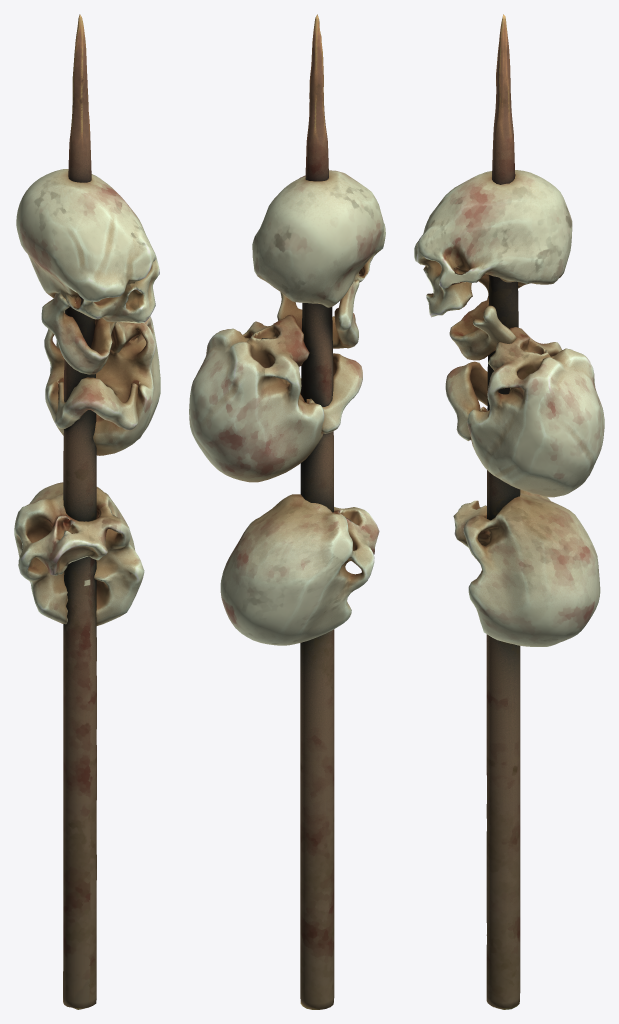
File: stick1.glb
3 views of the same model, side by side, from view 1: azimuth 30°, elevation 25°; view 2: azimuth 150°, elevation 25°; view 3: azimuth 270°, elevation 25° (orthographic).
Visible parts, largest first — view 1: stick1; view 2: stick1; view 3: stick1.
Part boxes in pixels (x1,y1,x2,y2): stick1: (14, 14, 160, 1009); stick1: (189, 14, 385, 1009); stick1: (414, 14, 604, 1009).
Bounding box in the file's own units: 3.1 × 18.9 × 3.3.
1 material, 1 textured.
